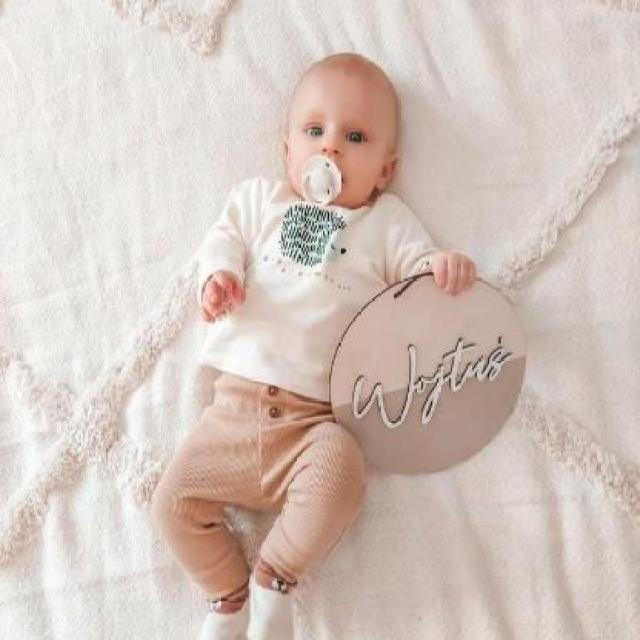baby: (148, 49, 524, 638)
